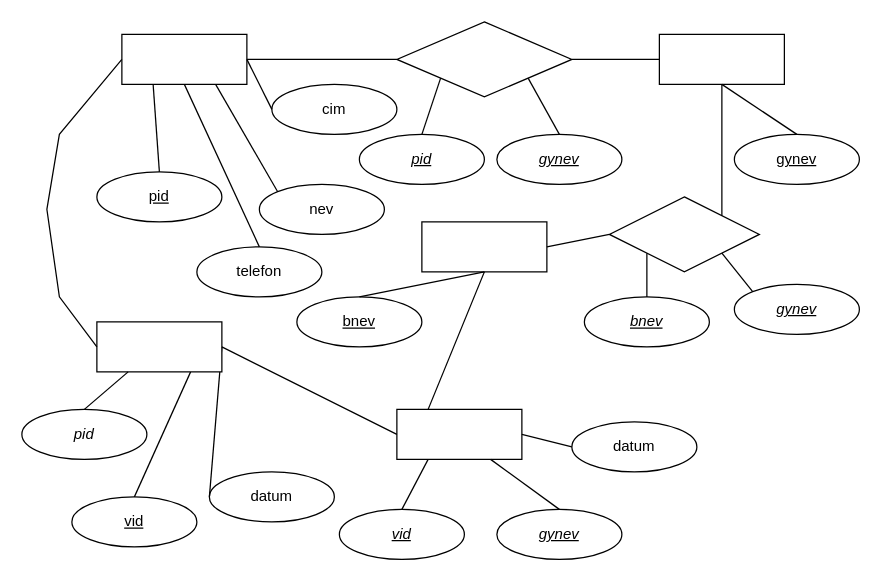
Image size: 881x581. Some labels were removed from this diagram. The shapes that lost their labels are listed below. From the top down, each one's box as (x1, y1, x2, y2) in pixels, then its label:
(121, 33, 247, 84): PACIENS
(396, 21, 572, 97): MIRE_ERZEKENY
(658, 33, 784, 84): GYOGYSZER
(421, 221, 547, 272): BETEGSEG
(608, 196, 759, 272): MIT_KAP
(96, 321, 222, 372): VIZSGALAT
(396, 408, 522, 459): DIAGNOZIS
